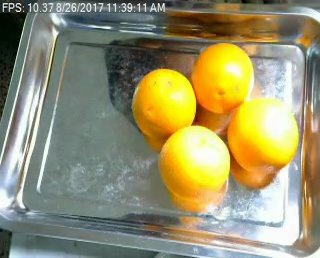Orange: (157, 124, 230, 199), (226, 100, 297, 174), (130, 69, 197, 140), (193, 43, 255, 115)
